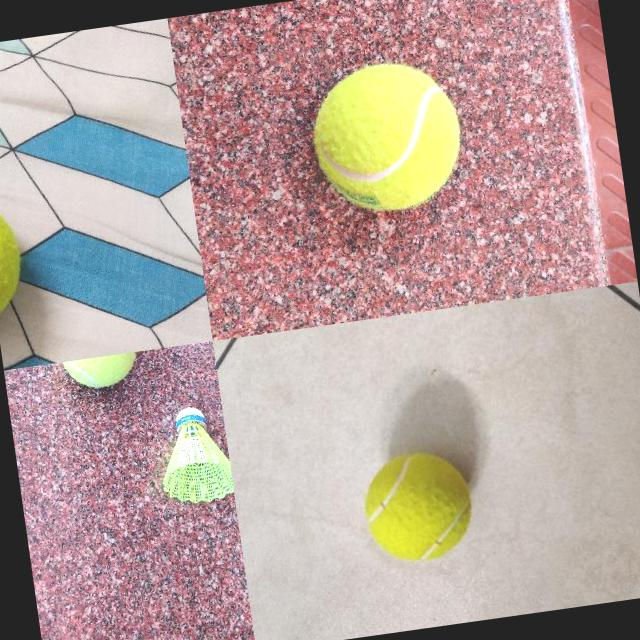Tennis Ball: (304, 56, 468, 220), (358, 446, 479, 569), (0, 181, 31, 330), (61, 352, 140, 392)
